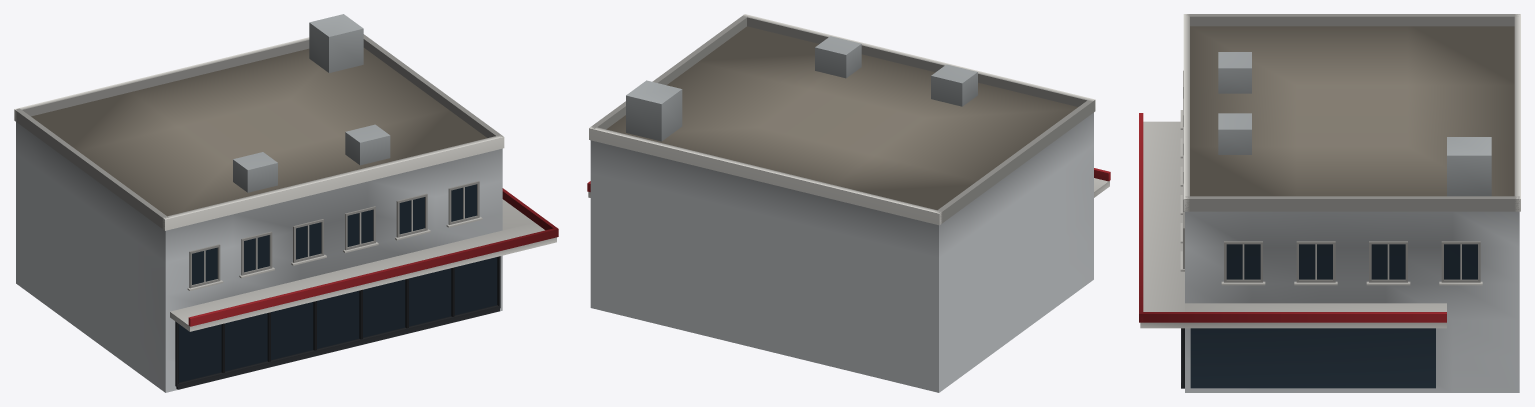
The model's file is comercio-esquina-BJpWHejd.glb.
3 renders of one model, left to right at view 1: azimuth 30°, elevation 25°; view 2: azimuth 150°, elevation 25°; view 3: azimuth 270°, elevation 25°, orthographic. The views are drawn at different scales.
Parts seen in each view (by area): view 1: pieza, pieza.001, pieza.006, pieza.018, pieza.002, pieza.020, pieza.003, pieza.024, pieza.004, pieza.015, pieza.005, pieza.023 (+9 smaller); view 2: pieza, pieza.001, pieza.003, pieza.002, pieza.024, pieza.004, pieza.005, pieza.022, pieza.023; view 3: pieza.001, pieza, pieza.017, pieza.018, pieza.005, pieza.004, pieza.019, pieza.021, pieza.024, pieza.022, pieza.023, pieza.002 (+6 smaller).
Part boxes in pixels (x1,y1,x2,y2): pieza: [16, 122, 502, 392]; pieza.001: [31, 48, 487, 216]; pieza.006: [179, 257, 497, 382]; pieza.018: [170, 222, 556, 331]; pieza.002: [162, 135, 504, 230]; pieza.020: [188, 228, 558, 326]; pieza.003: [14, 37, 309, 122]; pieza.024: [309, 14, 363, 72]; pieza.004: [16, 108, 168, 230]; pieza.015: [176, 305, 499, 389]; pieza.005: [363, 34, 503, 137]; pieza.023: [345, 124, 390, 165]; pieza: [590, 112, 1093, 392]; pieza.001: [606, 26, 1077, 210]; pieza.003: [589, 126, 942, 225]; pieza.002: [742, 14, 1095, 111]; pieza.024: [626, 80, 682, 141]; pieza.004: [935, 100, 1094, 222]; pieza.005: [592, 15, 747, 129]; pieza.022: [931, 64, 977, 106]; pieza.023: [815, 36, 861, 78]; pieza.001: [1190, 26, 1514, 196]; pieza: [1185, 211, 1519, 392]; pieza.017: [1190, 328, 1435, 388]; pieza.018: [1140, 121, 1184, 328]; pieza.005: [1185, 196, 1519, 211]; pieza.004: [1187, 14, 1519, 26]; pieza.019: [1185, 303, 1446, 328]; pieza.021: [1139, 312, 1446, 322]; pieza.024: [1447, 137, 1491, 196]; pieza.022: [1218, 52, 1251, 93]; pieza.023: [1218, 113, 1251, 154]; pieza.002: [1183, 14, 1189, 211].
Size of the model in its own units: 17.3 by 8.92 by 13.7.
